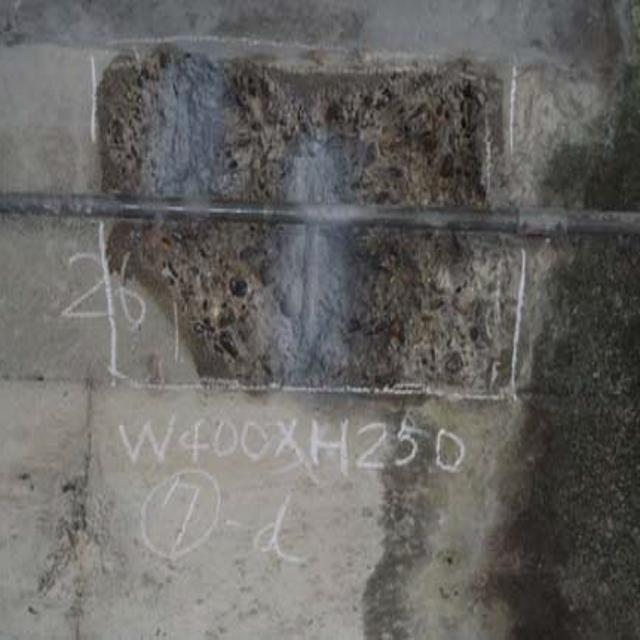spalling: (90, 44, 536, 407)
